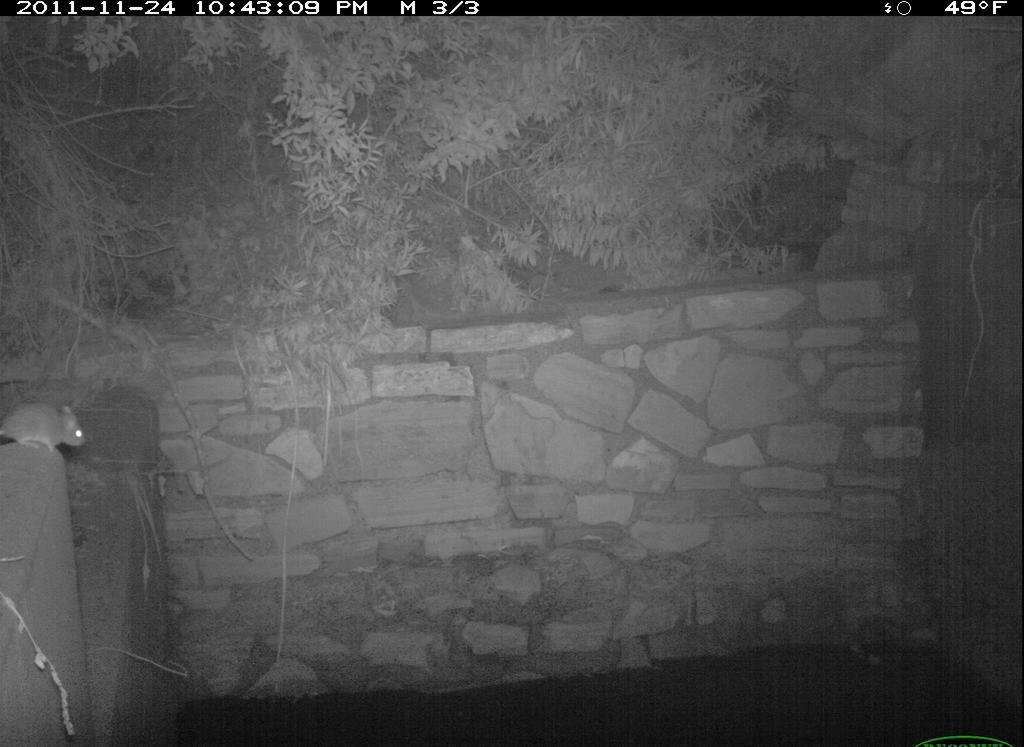rodent: (1, 397, 91, 461)
